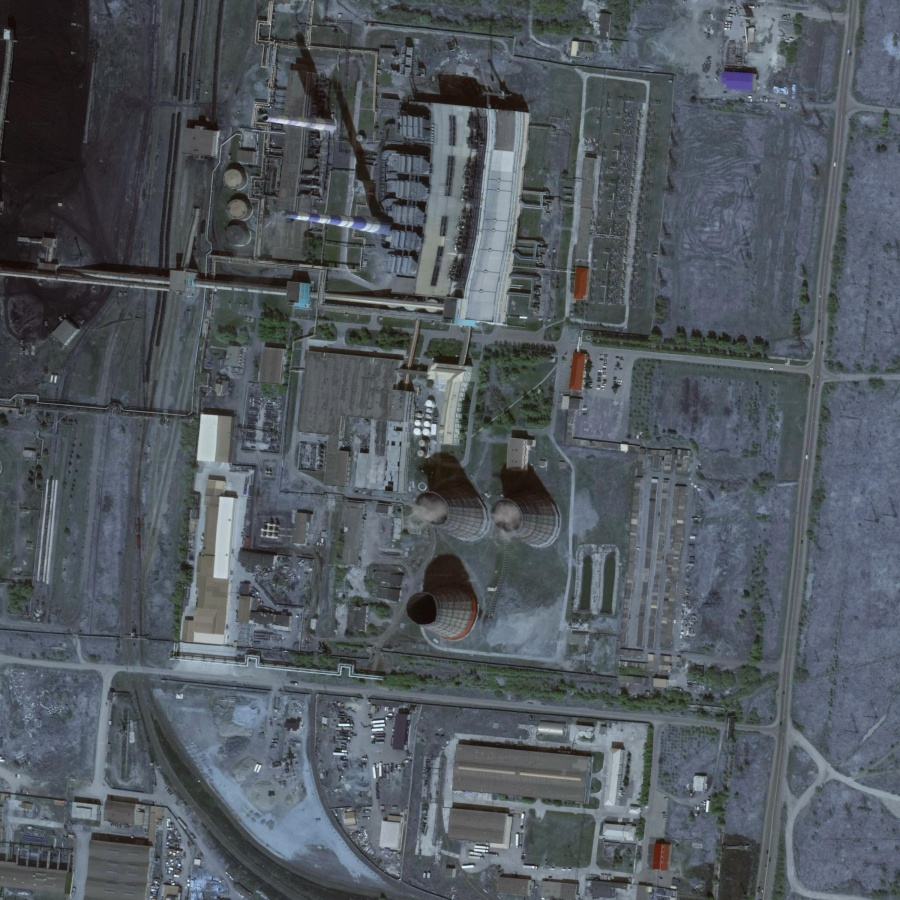PowerPlant: (242, 21, 431, 283), (398, 423, 587, 678)
